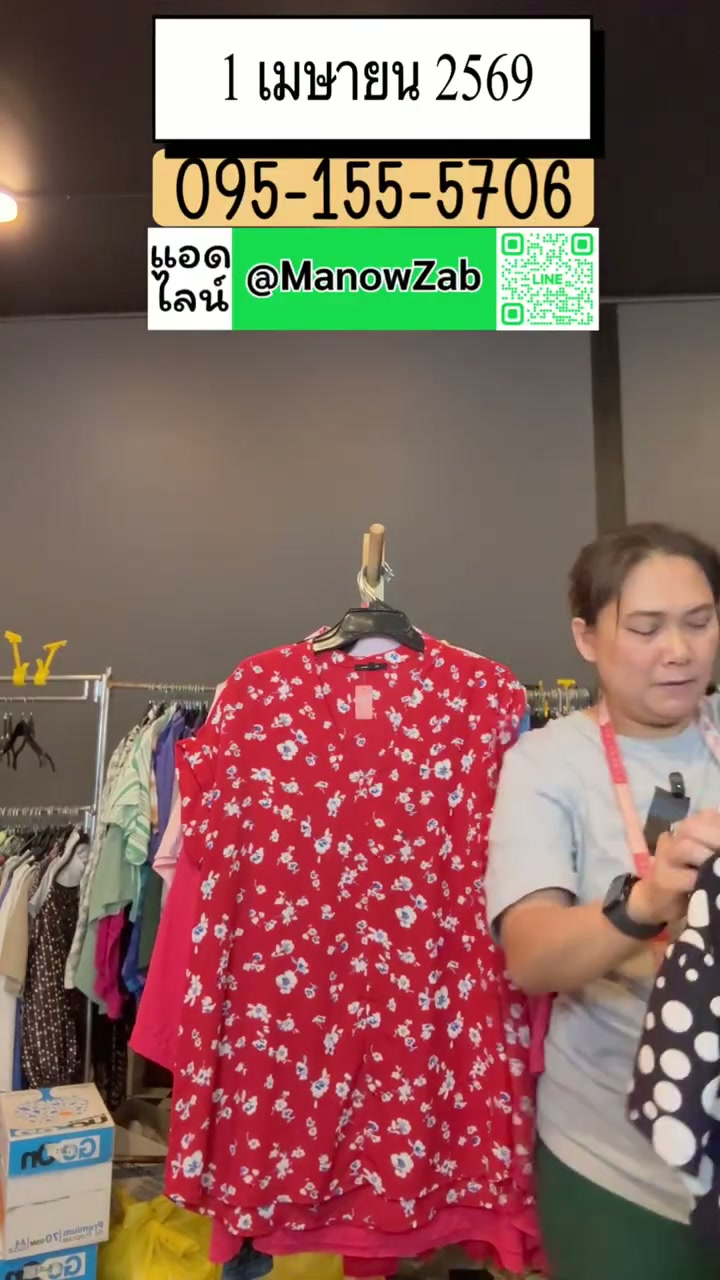display_shirt: (161, 625, 536, 1276)
